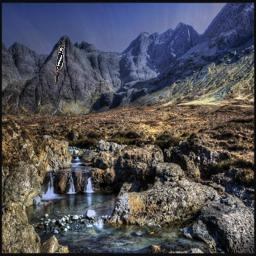Woodpecker: (55, 45, 65, 85)
